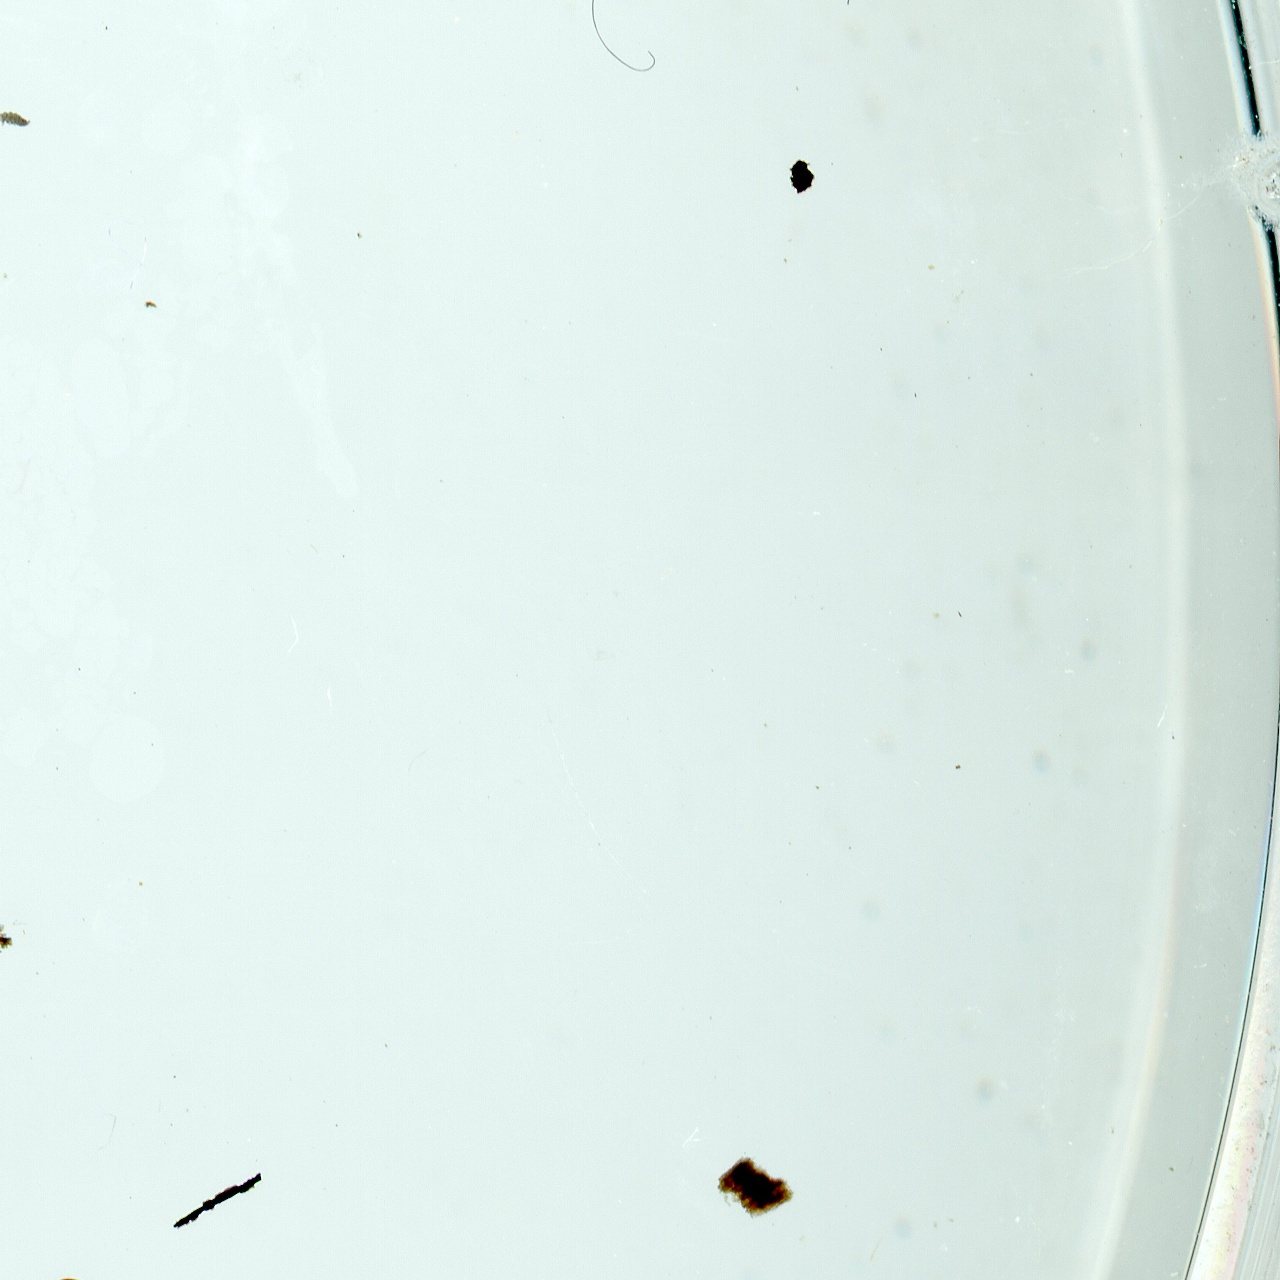arthropod: (30, 1234, 211, 1280), (0, 108, 32, 129)
